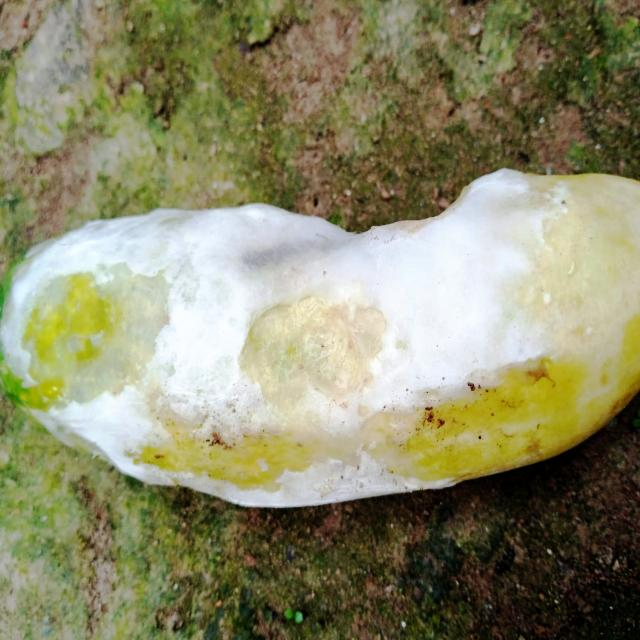Pythium-Fruit-Rot: (2, 163, 574, 510)
